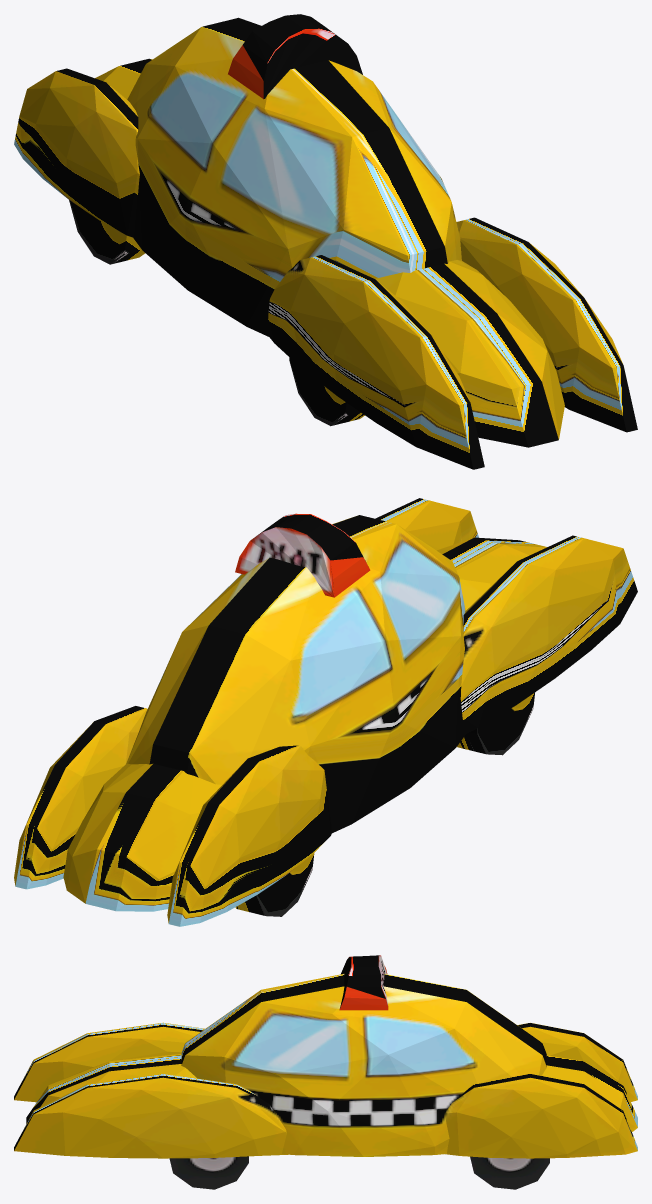
File: Taxi.glb
3 views of the same model, one above another, from view 1: azimuth 30°, elevation 25°; view 2: azimuth 150°, elevation 25°; view 3: azimuth 270°, elevation 25° (orthographic). The views are drawn at different scales.
Parts seen in each view (by area): view 1: Taxi; view 2: Taxi; view 3: Taxi.
Boxes of the visible parts, x1,y1,x2,y2 form: Taxi: (14, 14, 637, 469); Taxi: (14, 498, 637, 926); Taxi: (14, 955, 637, 1189).
Size of the model in its own units: 60.88 by 77.03 by 219.
1 material, 1 textured.
